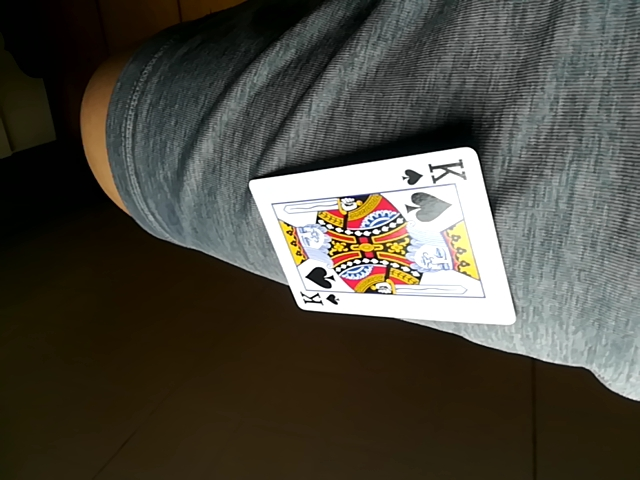ht k: (246, 148, 514, 324)
